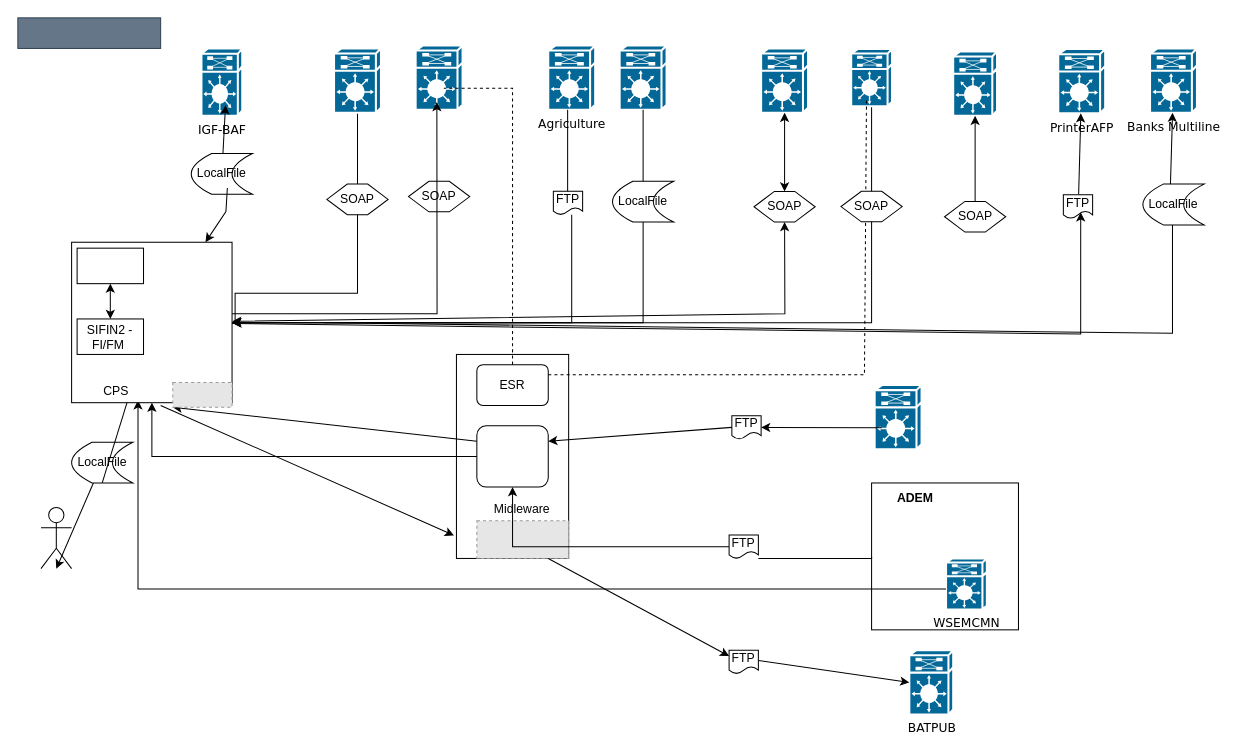
Image size: 1237x754. Some labels were removed from this diagram. Grey dashed boxes stand in for pictures. The shapes that lost their labels are listed below. From the top down, each one's centre as x and y in pixels, then its label:
point 89,32: AS-IS today
point 357,80: MT-GIP
point 438,77: CIDBG
point 642,77: CGPO
point 784,80: MMAET
point 871,77: GED-HIVE
point 975,83: RNPP
point 110,265: SIGEP - HR
point 897,417: E-CEDIES
point 512,456: Runtime
point 56,537: Actor
